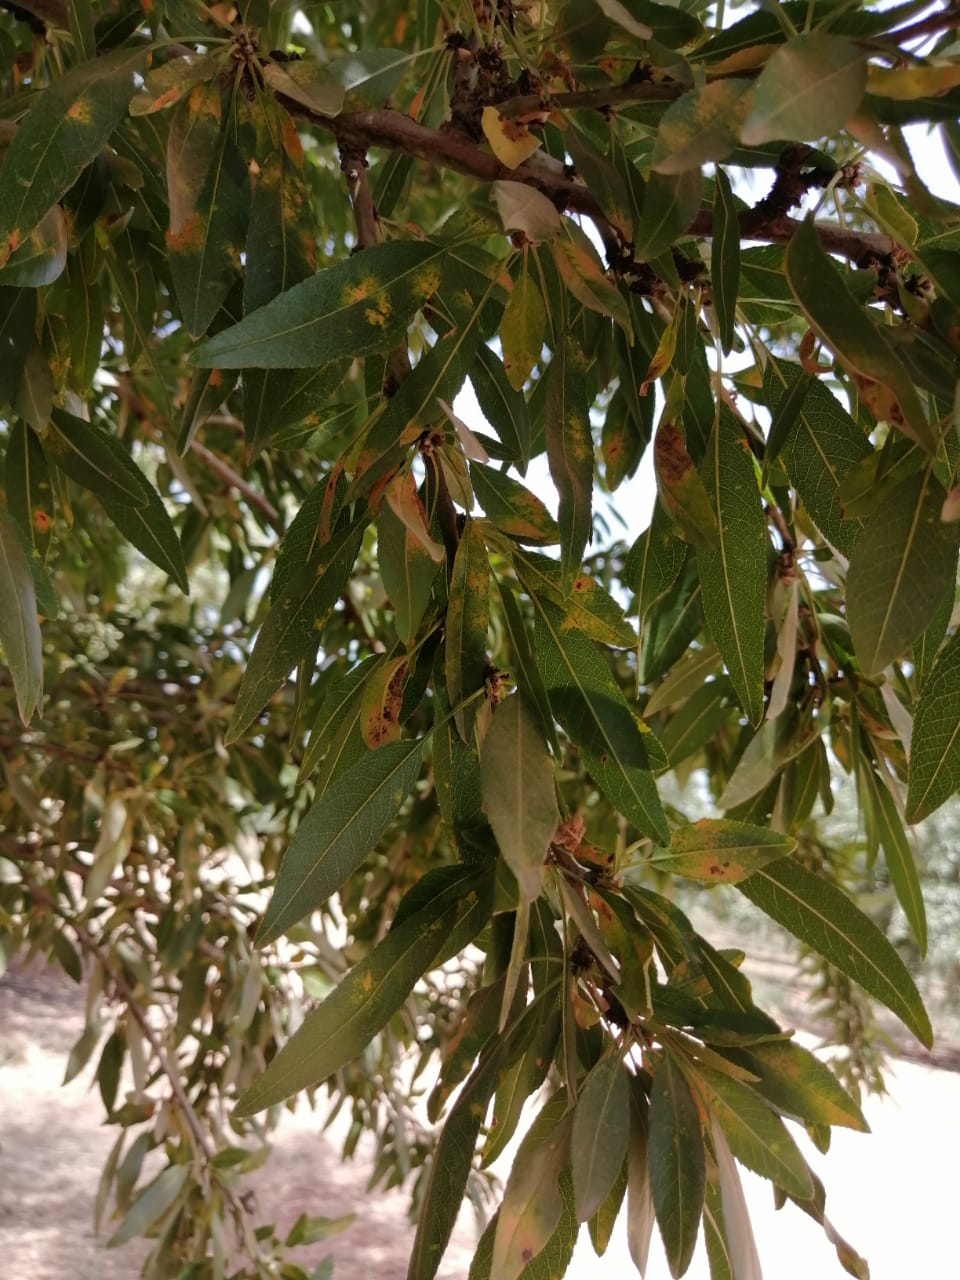polystigma: (552, 708, 844, 991), (501, 73, 676, 427), (234, 802, 380, 1176), (324, 938, 505, 1210), (1, 626, 338, 764), (137, 758, 322, 995), (196, 476, 452, 619), (607, 1014, 719, 1280), (676, 1, 748, 179), (409, 607, 506, 730), (532, 640, 645, 726)
